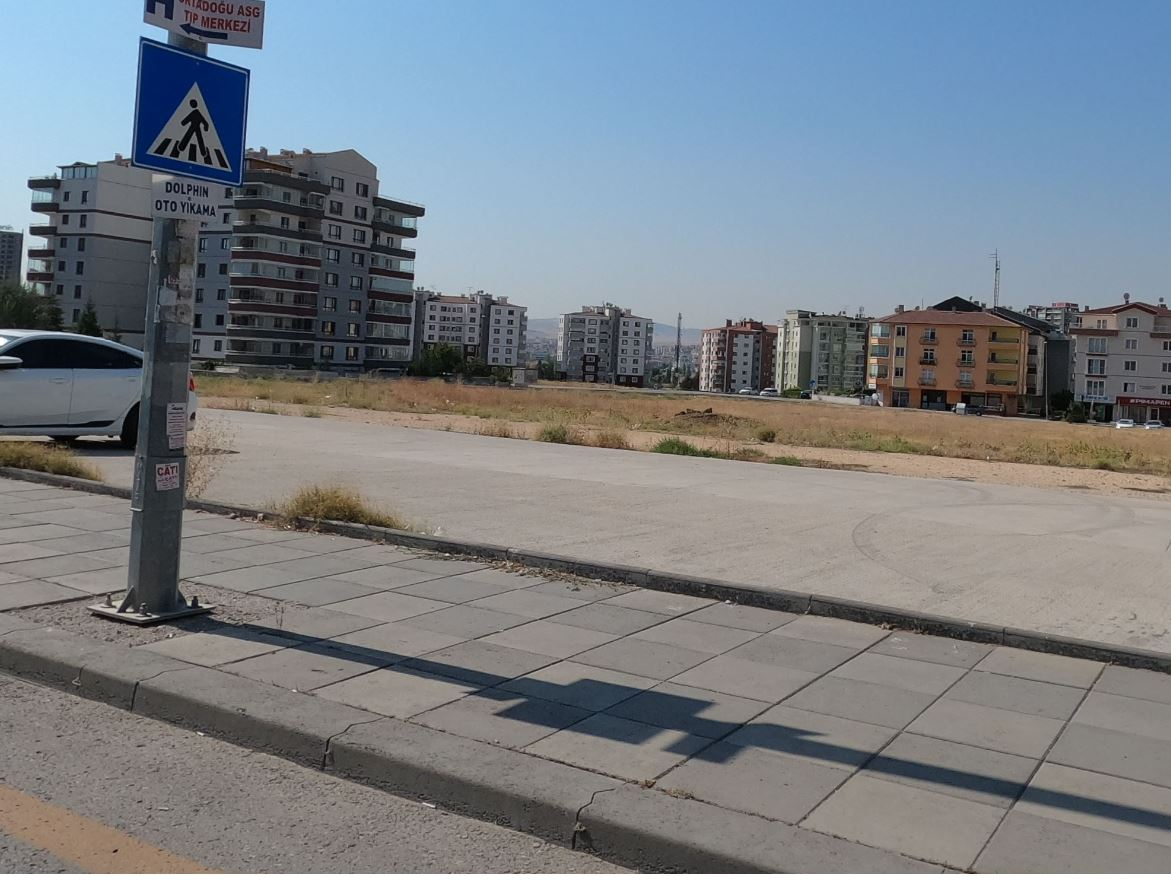Yaya Gecidi: (142, 47, 245, 171)
